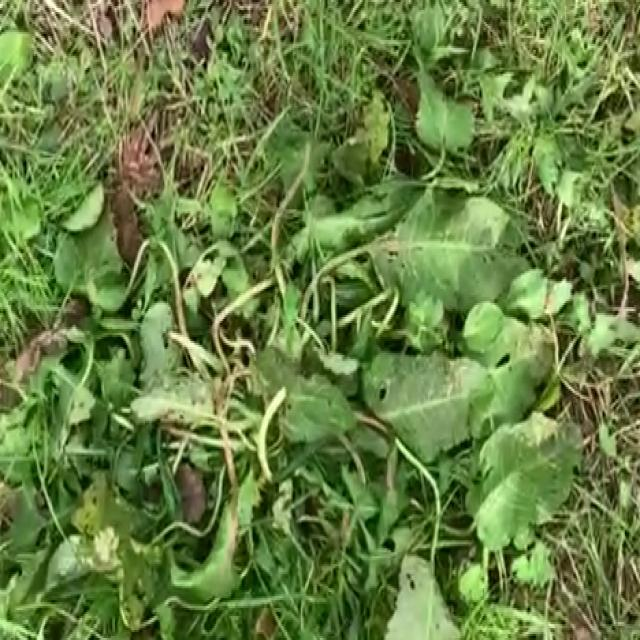organic waste: (19, 87, 612, 640)
